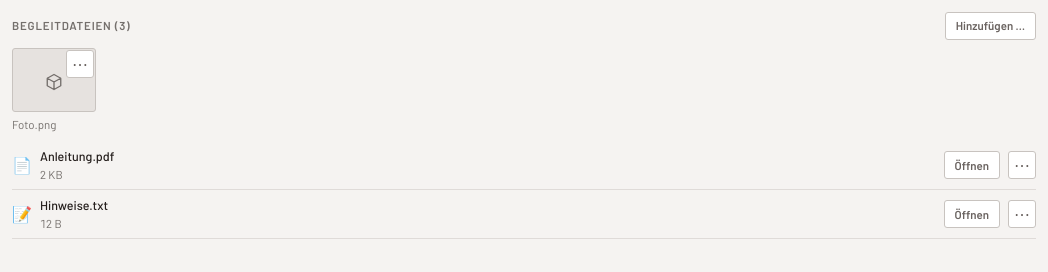
it: CompanionSection › closes the menu with Escape and returns focus to its button
Expected: the text "Anleitung.pdf" is shown, x1=40 y1=148 x2=114 y2=164
Click the button named "Weitere Aktionen für Anleitung.pdf" at (1022, 165), box x1=1008 y1=151 x2=1036 y2=179
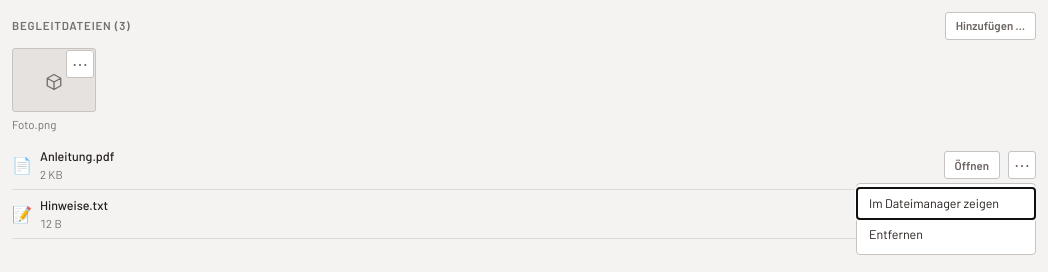
Expected: the menu is shown, x1=856 y1=183 x2=1036 y2=255
Press Escape in the menu item "Im Dateimanager zeigen", box x1=857 y1=188 x2=1035 y2=219
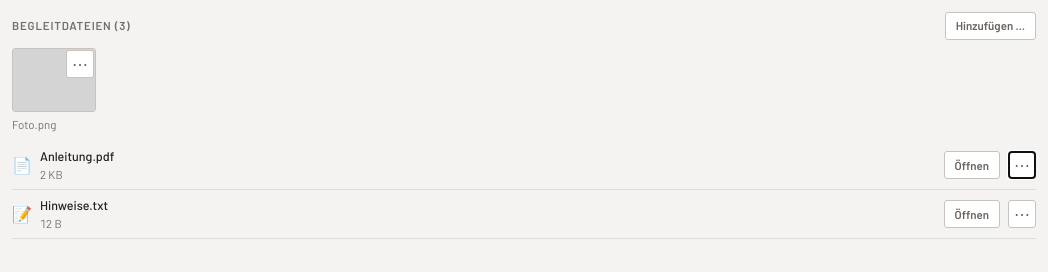
Expected: the menu is gone
